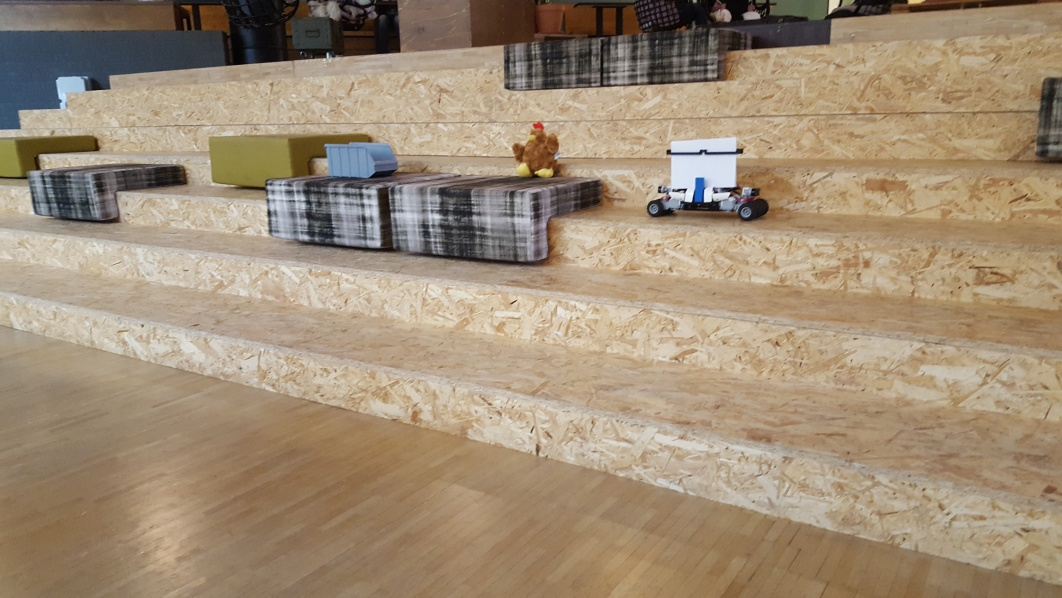beam: (690, 174, 705, 204)
chicken: (510, 123, 562, 178)
tray: (321, 141, 398, 175)
